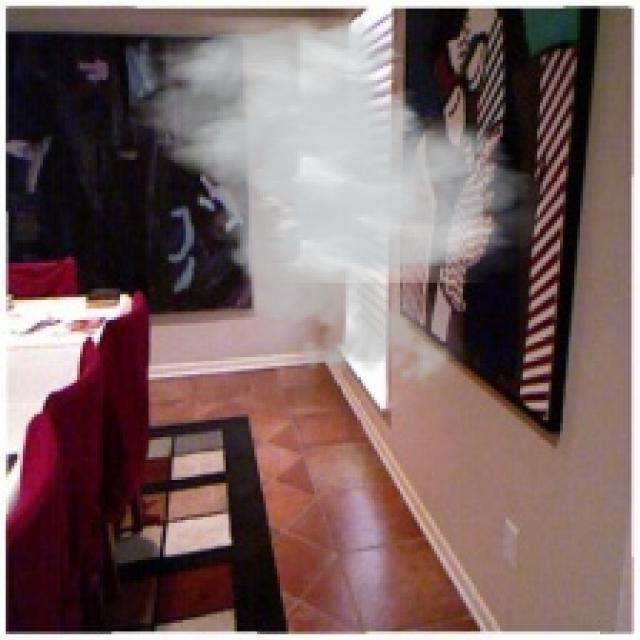Smoke: (128, 17, 540, 394)
